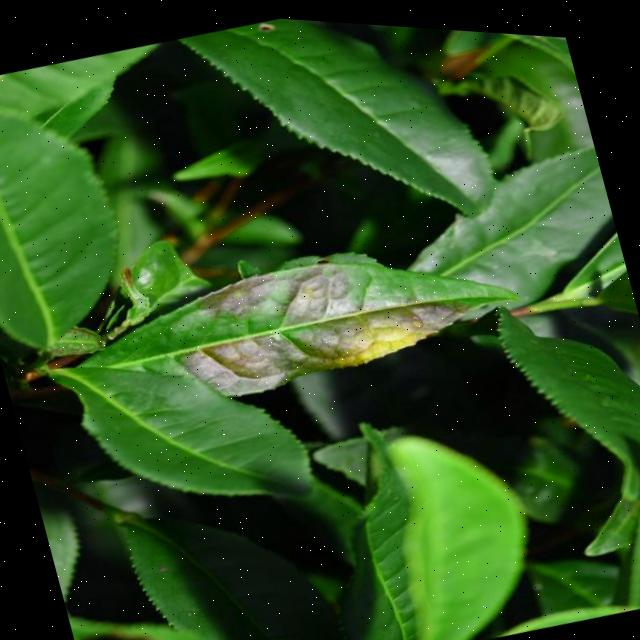Tea exobasidium blight: (192, 237, 448, 402)
